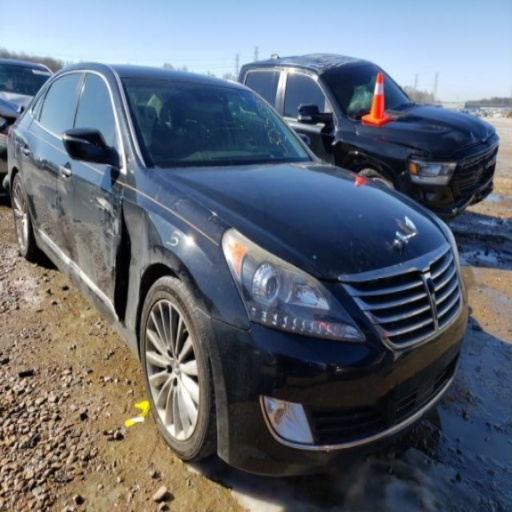dent: (122, 198, 147, 335)
scratch: (81, 200, 113, 230), (96, 196, 117, 219), (112, 217, 121, 238), (97, 204, 106, 210), (108, 229, 115, 236)
